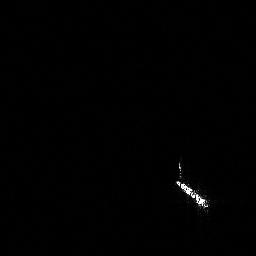ship: (170, 157, 214, 214)
